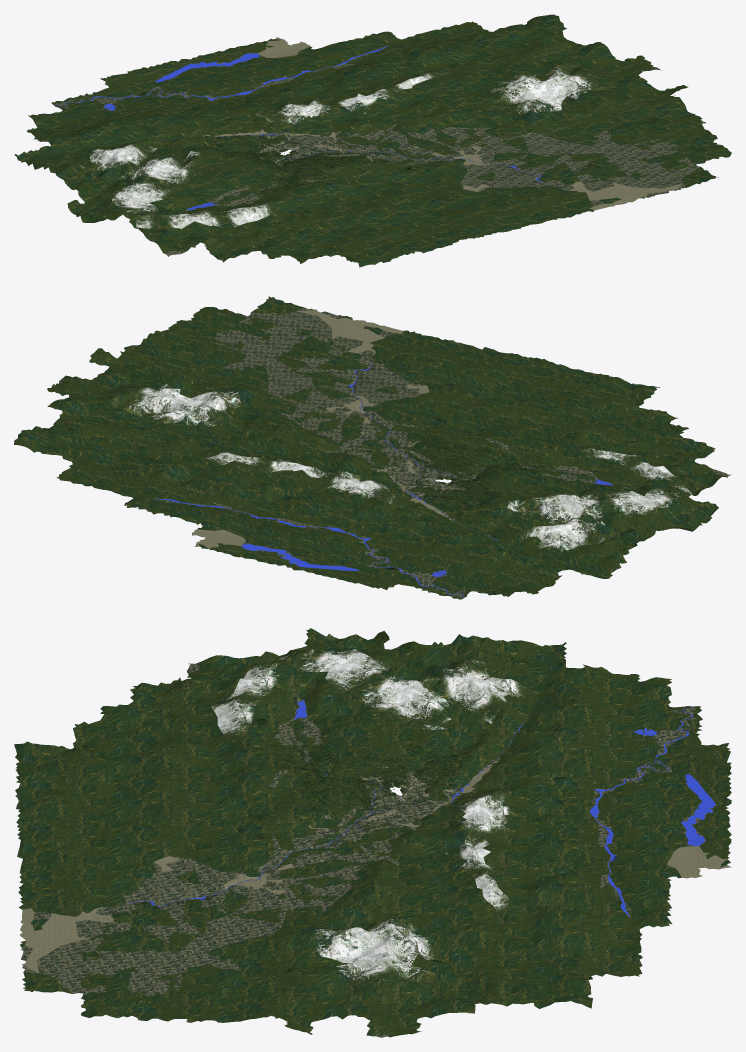
The model's file is Bled_teren.FBX.
3 renders of one model, top to bottom at view 1: azimuth 30°, elevation 25°; view 2: azimuth 150°, elevation 25°; view 3: azimuth 270°, elevation 25°, orthographic. The views are drawn at different scales.
Parts seen in each view (by area): view 1: Object001, Object009; view 2: Object001, Object009; view 3: Object001, Object009.
Boxes of the visible parts, <box> form: Object001: <box>14,14,731,267</box>; Object009: <box>198,135,372,194</box>; Object001: <box>14,296,731,599</box>; Object009: <box>390,434,552,514</box>; Object001: <box>14,628,731,1037</box>; Object009: <box>271,741,474,830</box>.
Bounding box in the file's own units: 89702 × 2429 × 68121.
15 materials, 14 textured.
